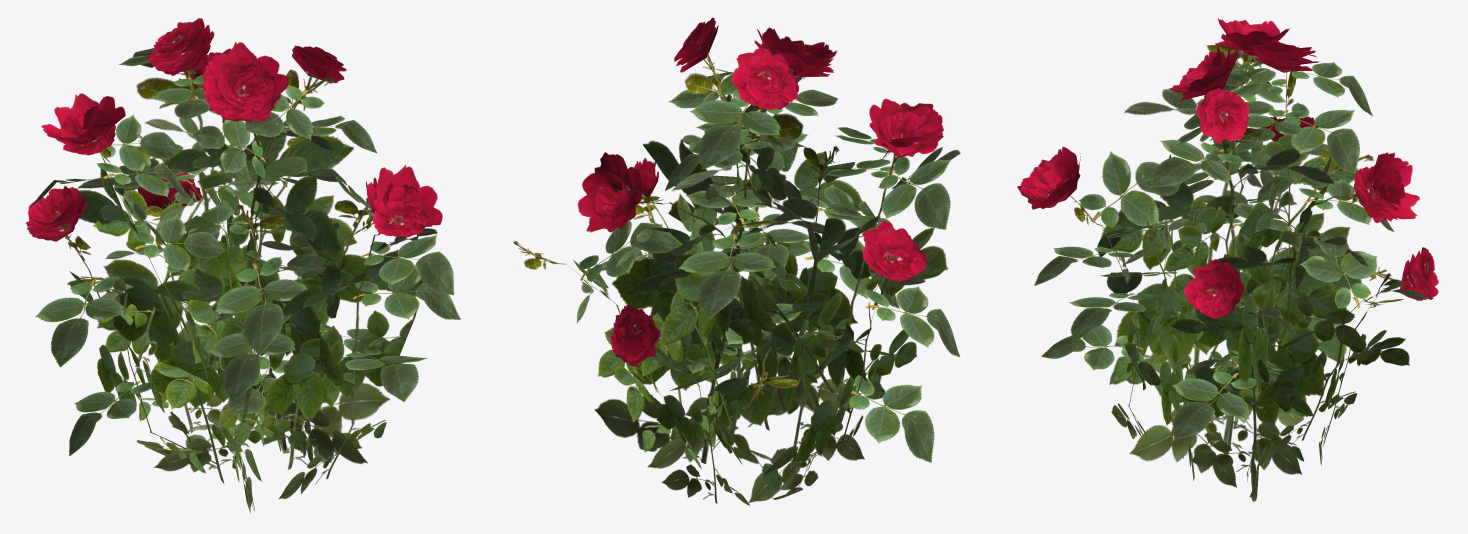
The model's file is rose.glb.
3 renders of one model, left to right at view 1: azimuth 30°, elevation 25°; view 2: azimuth 150°, elevation 25°; view 3: azimuth 270°, elevation 25°, orthographic. The views are drawn at different scales.
Parts seen in each view (by area): view 1: SM_Rosaceae_RoseClimber_INST_0; view 2: SM_Rosaceae_RoseClimber_INST_0; view 3: SM_Rosaceae_RoseClimber_INST_0.
Boxes of the visible parts, x1,y1,x2,y2 form: SM_Rosaceae_RoseClimber_INST_0: [25, 18, 460, 513]; SM_Rosaceae_RoseClimber_INST_0: [513, 17, 960, 505]; SM_Rosaceae_RoseClimber_INST_0: [1017, 18, 1438, 501].
Size of the model in its own units: 2.23 by 2.65 by 2.39.
Materials: 1 (1 with a texture image).
